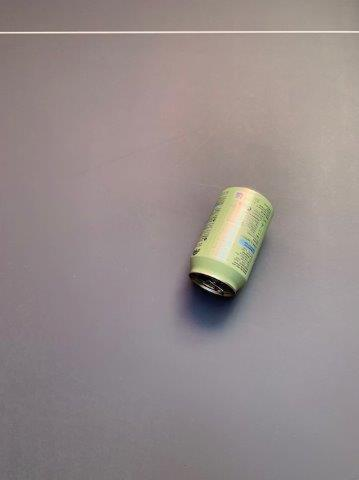kaleng: (189, 185, 274, 298)
